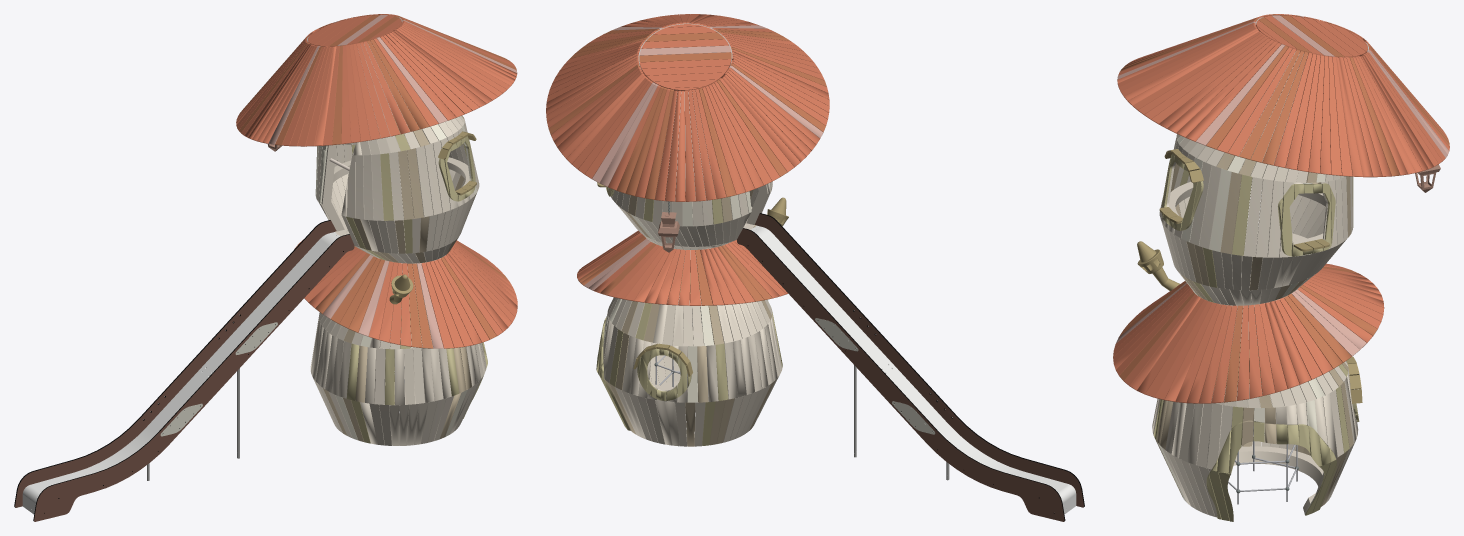
Rendered from rgss-601-p-capilo.glb.
The picture shows the model from 3 angles, left to right: view 1: azimuth 30°, elevation 25°; view 2: azimuth 150°, elevation 25°; view 3: azimuth 270°, elevation 25°; orthographic projection. The views are drawn at different scales.
Parts seen in each view (by area): view 1: Body137; view 2: Body137; view 3: Body137.
Part boxes in pixels (box(x1,y1,x2,y2)): Body137: box(14, 14, 517, 521); Body137: box(546, 14, 1084, 521); Body137: box(1113, 14, 1449, 521).
Bounding box in the file's own units: 6.55 × 5.05 × 3.34.
Materials: 1 (1 with a texture image).
